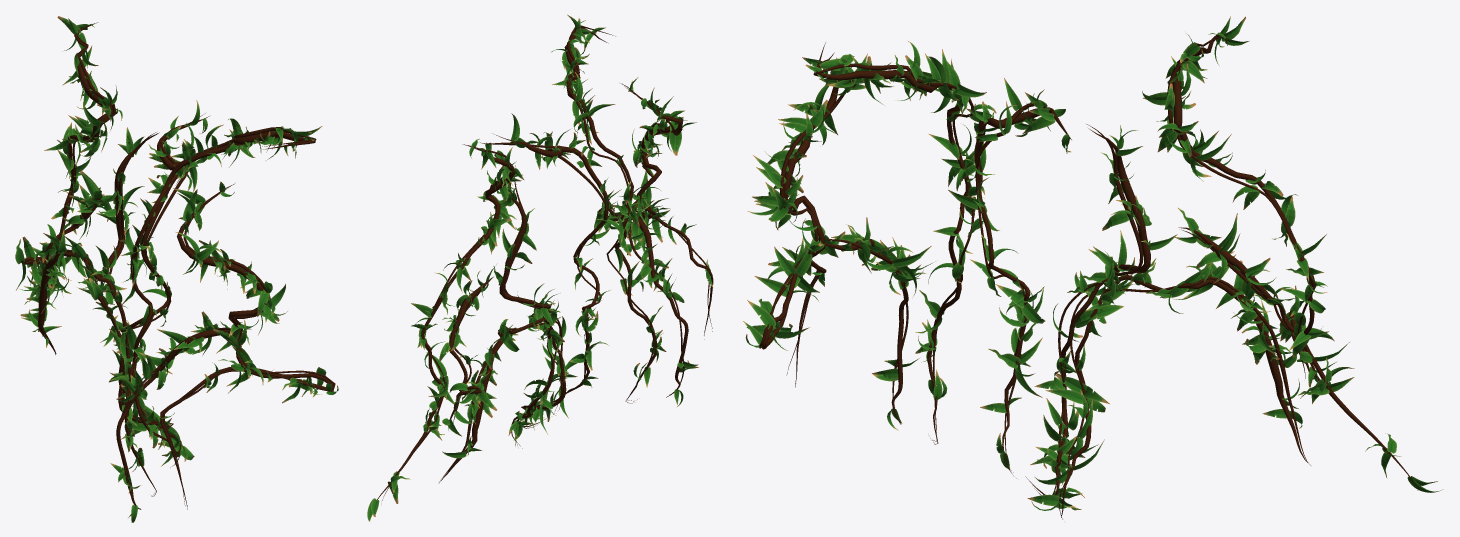
The model's file is Vines_Test.fbx.
3 renders of one model, left to right at view 1: azimuth 30°, elevation 25°; view 2: azimuth 150°, elevation 25°; view 3: azimuth 270°, elevation 25°, orthographic. The views are drawn at different scales.
Parts seen in each view (by area): view 1: BézierCurve.002; view 2: BézierCurve.002; view 3: BézierCurve.002.
Boxes of the visible parts, bbox=[...] form: BézierCurve.002: bbox=[15, 16, 338, 522]; BézierCurve.002: bbox=[367, 14, 713, 521]; BézierCurve.002: bbox=[743, 16, 1443, 519].
Size of the model in its own units: 2.07 by 4.56 by 5.95.
